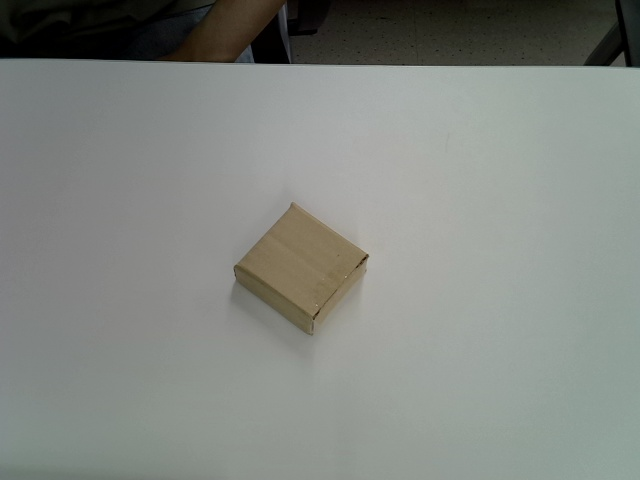normal: (233, 201, 370, 337)
